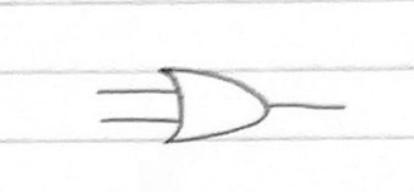OR: (152, 60, 277, 156)
